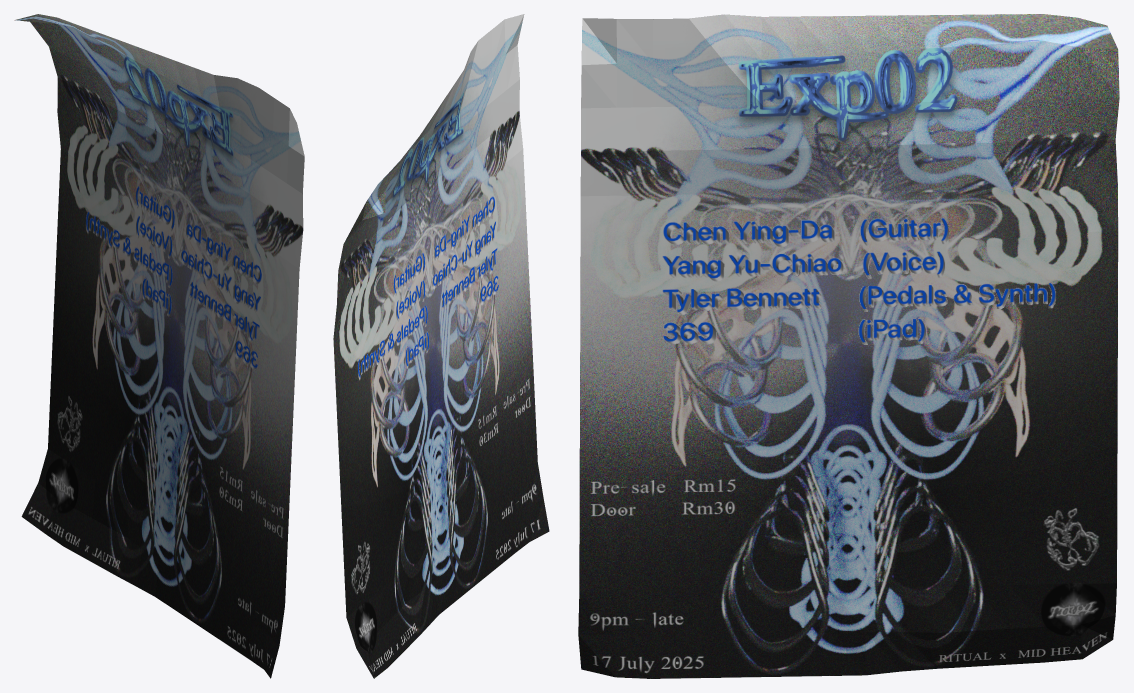
The model's file is exp02.glb.
The picture shows the model from 3 angles, left to right: view 1: azimuth 30°, elevation 25°; view 2: azimuth 150°, elevation 25°; view 3: azimuth 270°, elevation 25°; orthographic projection. The views are drawn at different scales.
Parts seen in each view (by area): view 1: pPlane1_Poster_01_Mat 10; view 2: pPlane1_Poster_01_Mat 10; view 3: pPlane1_Poster_01_Mat 10.
Part boxes in pixels (box(x1,y1,x2,y2)): pPlane1_Poster_01_Mat 10: box(14, 14, 304, 678); pPlane1_Poster_01_Mat 10: box(333, 14, 549, 678); pPlane1_Poster_01_Mat 10: box(578, 14, 1119, 678).
Size of the model in its own units: 8.48 by 60.58 by 44.
1 material, 1 textured.
